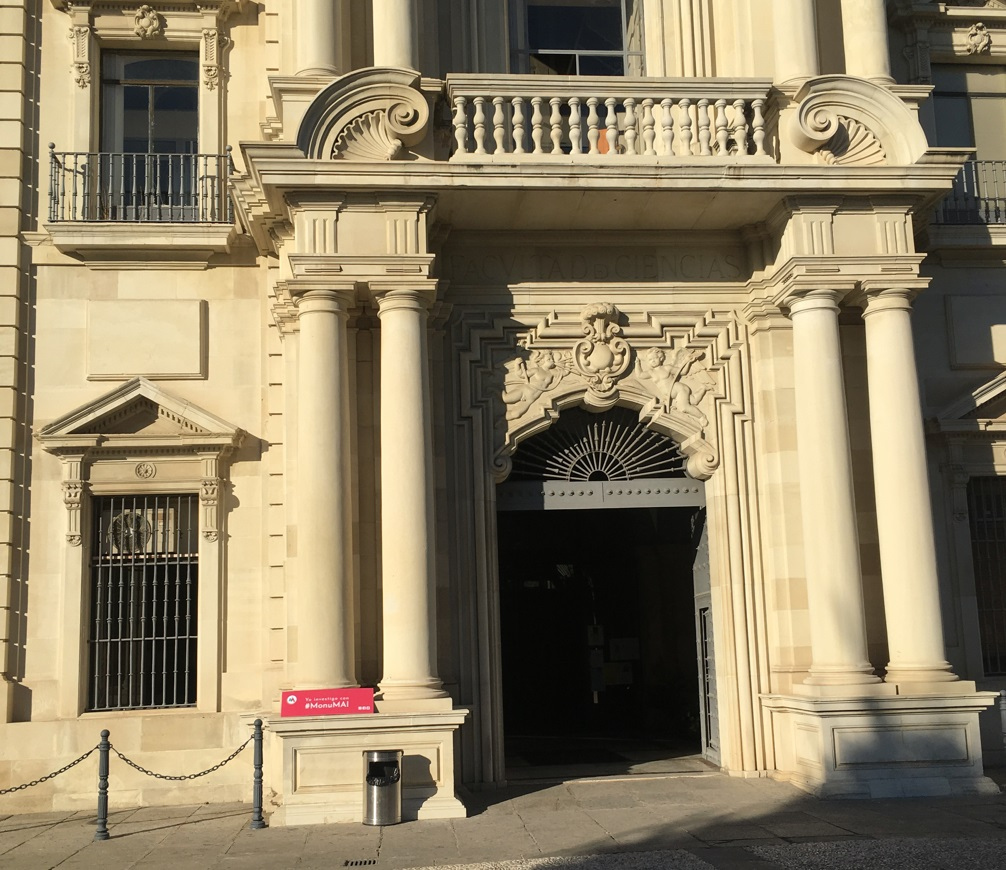fronton: (28, 376, 244, 454)
fronton-partido: (291, 60, 931, 193)
vano-adintelado: (55, 485, 222, 714), (64, 11, 227, 223)
